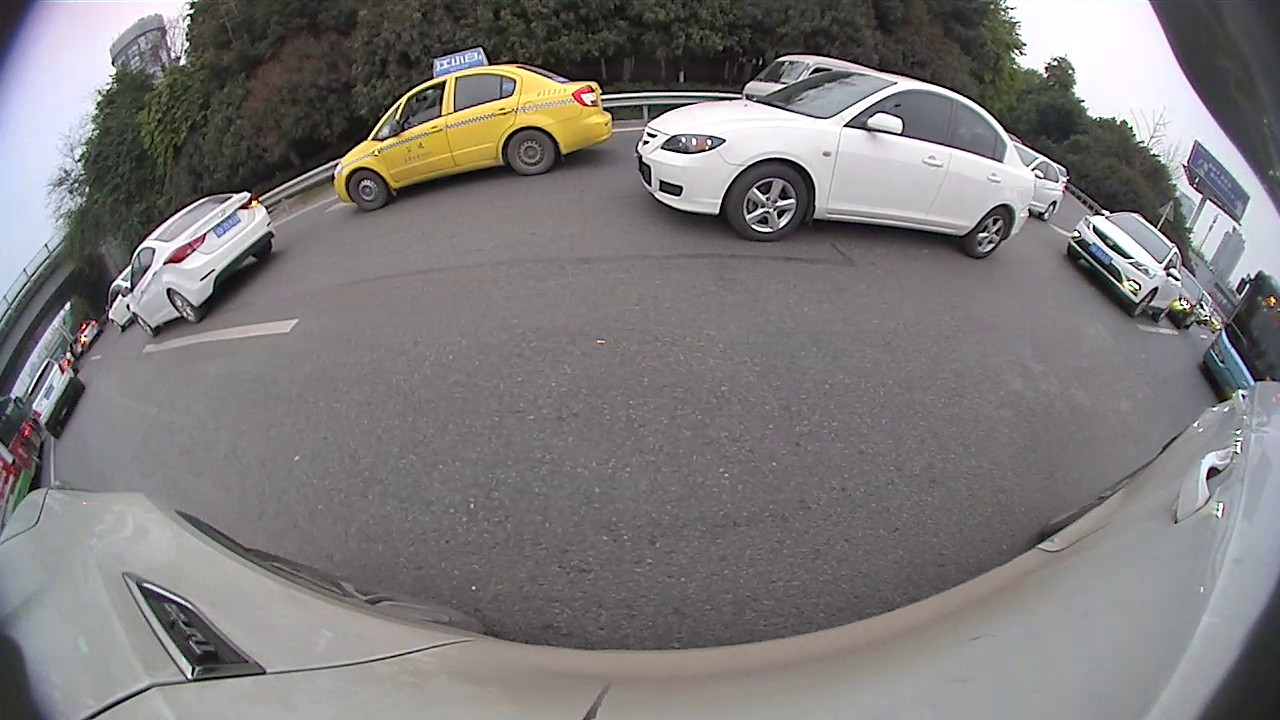bus: (1200, 271, 1279, 393)
car: (632, 68, 1040, 258), (331, 47, 606, 211), (116, 191, 272, 339), (1064, 210, 1184, 321), (740, 55, 862, 102), (23, 356, 83, 435), (1012, 137, 1064, 219), (104, 261, 136, 331), (1169, 269, 1206, 327)
front: (723, 162, 813, 245), (345, 168, 390, 212), (1128, 289, 1158, 321), (134, 314, 157, 339)
rear: (962, 203, 1015, 263), (504, 129, 558, 178), (169, 289, 202, 326), (1041, 202, 1057, 222)
